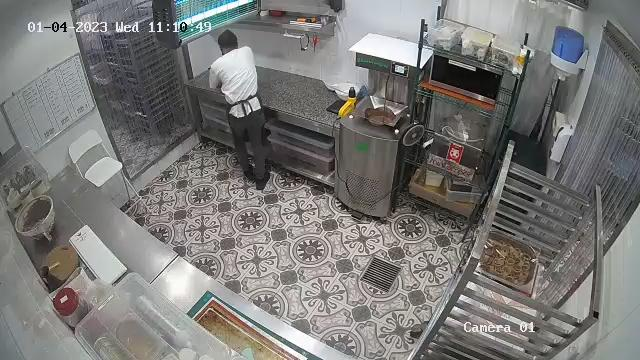apron: (227, 84, 266, 118)
